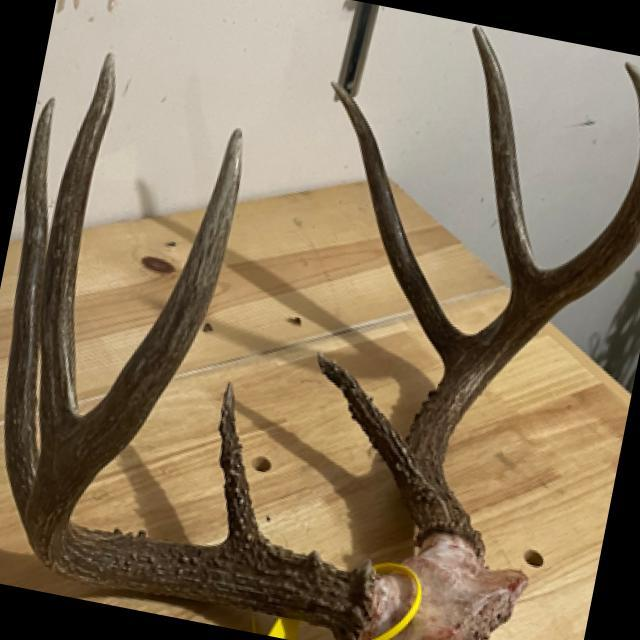L-F: (394, 58, 640, 567)
L-G1: (314, 349, 406, 477)
L-G2: (328, 79, 471, 372)
L-G3: (471, 24, 544, 300)
R-F: (23, 124, 379, 640)
R-G1: (214, 374, 269, 545)
R-G2: (2, 91, 59, 525)
R-G3: (38, 44, 119, 459)
